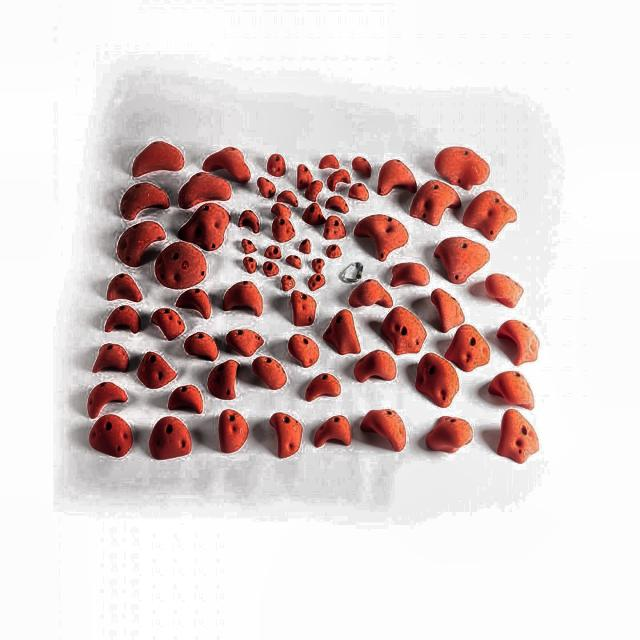Hold: (460, 186, 520, 236), (491, 412, 543, 464), (429, 238, 490, 282), (176, 205, 235, 249), (431, 144, 487, 190), (414, 352, 458, 410), (154, 243, 208, 290), (114, 222, 174, 264), (124, 135, 188, 173), (361, 398, 406, 452), (350, 215, 407, 257), (443, 325, 493, 372), (480, 368, 538, 408), (146, 414, 193, 461), (380, 306, 428, 351), (200, 145, 258, 181), (120, 183, 176, 220), (497, 317, 542, 363), (424, 414, 478, 452), (427, 284, 471, 330), (86, 376, 130, 421), (88, 414, 136, 455), (268, 410, 306, 459), (178, 174, 239, 204), (223, 280, 266, 322), (322, 306, 360, 353), (310, 412, 352, 452), (217, 408, 251, 456), (356, 349, 396, 389), (482, 268, 529, 302), (140, 352, 178, 394), (283, 288, 321, 328), (203, 362, 244, 399), (90, 344, 134, 377), (251, 356, 287, 396), (300, 372, 342, 406), (286, 333, 321, 369), (102, 306, 144, 336), (225, 330, 265, 360), (348, 279, 386, 309), (177, 289, 211, 322), (101, 270, 138, 300), (168, 383, 204, 413), (185, 330, 220, 360), (149, 309, 187, 336), (388, 263, 429, 285), (302, 178, 330, 204), (268, 216, 295, 242), (322, 214, 347, 240), (234, 207, 258, 233), (303, 272, 331, 294), (299, 200, 322, 226), (262, 153, 288, 175), (252, 176, 274, 200), (326, 170, 350, 190), (276, 187, 300, 206), (262, 203, 294, 217), (318, 150, 340, 170), (324, 194, 346, 212), (348, 185, 371, 202), (240, 257, 259, 277), (354, 156, 372, 177), (294, 160, 308, 185), (323, 242, 342, 260), (286, 252, 304, 270), (239, 238, 256, 255), (261, 258, 277, 276), (297, 237, 312, 256), (264, 242, 280, 258), (278, 276, 296, 290)
